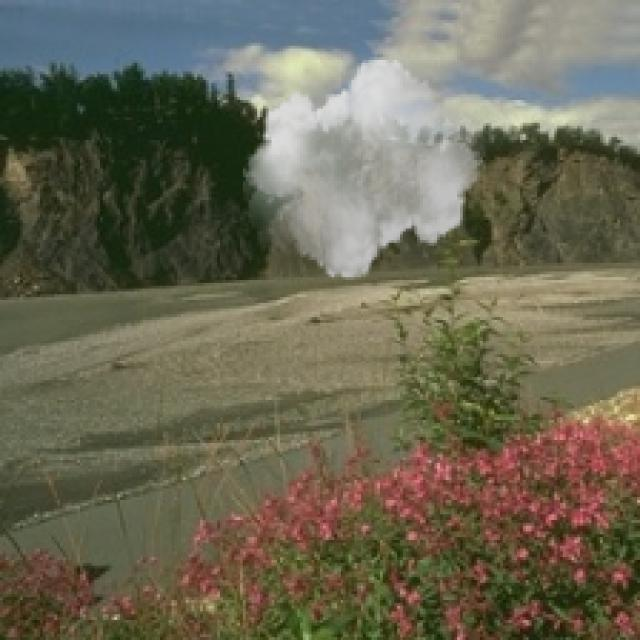Smoke: (243, 49, 486, 288)
